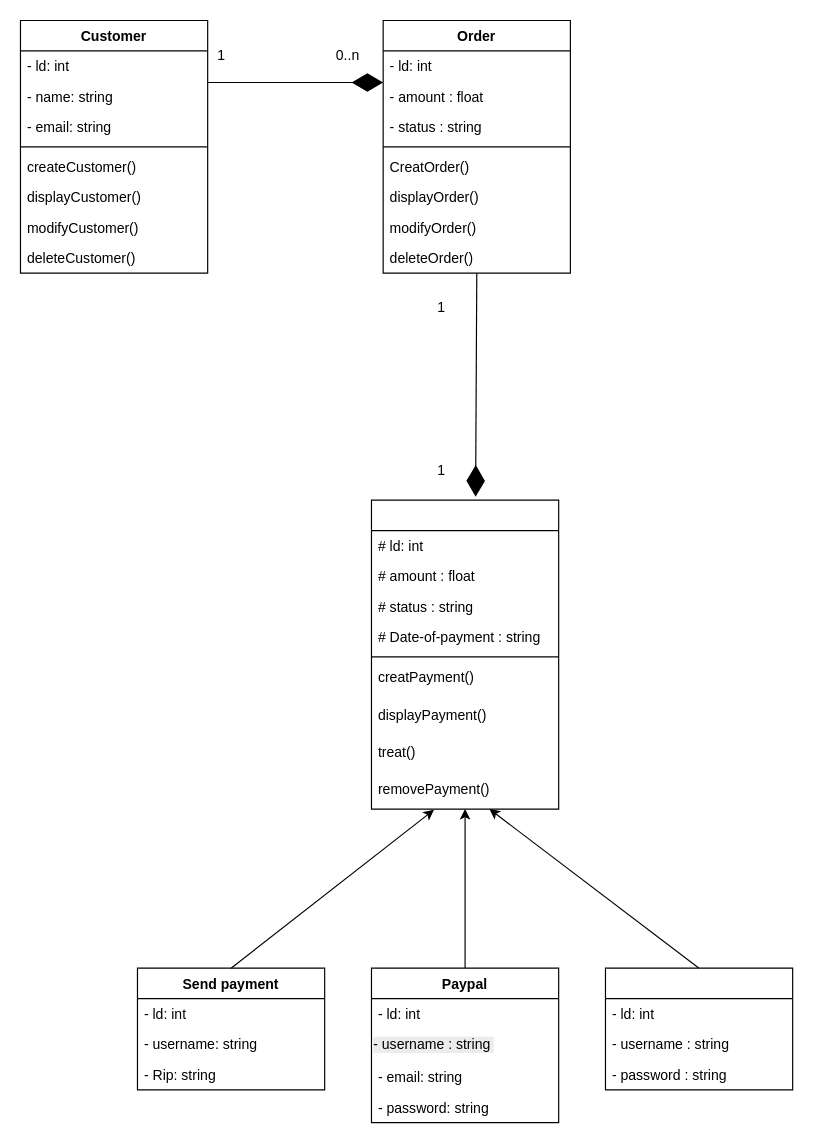
The diagram is 813 pixels wide and 1147 high, and some of its shapes have lost their labels. Here are the shapes that lost their labels. From the top down, the box of each, then its label:
(370, 499, 559, 809): Payment method
(604, 967, 793, 1090): Bank card
